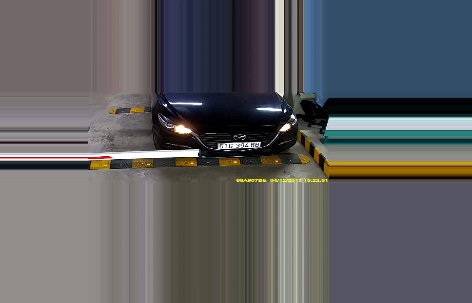plate: (215, 139, 262, 151)
